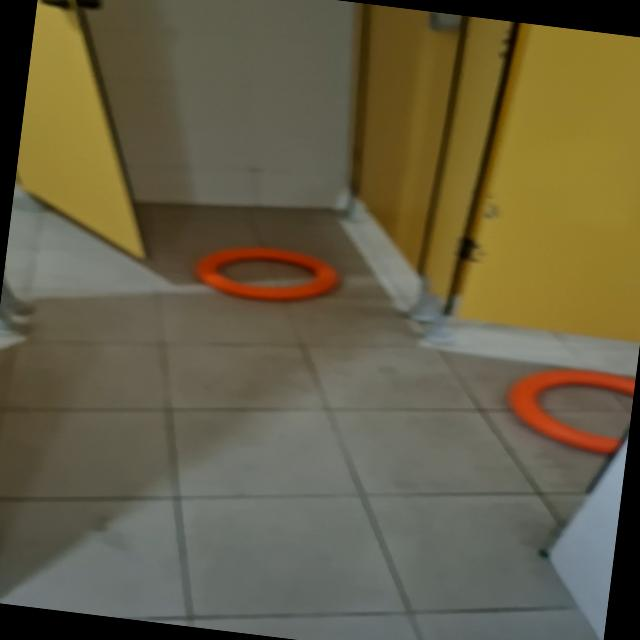note: (501, 359, 634, 456), (192, 237, 342, 309)
